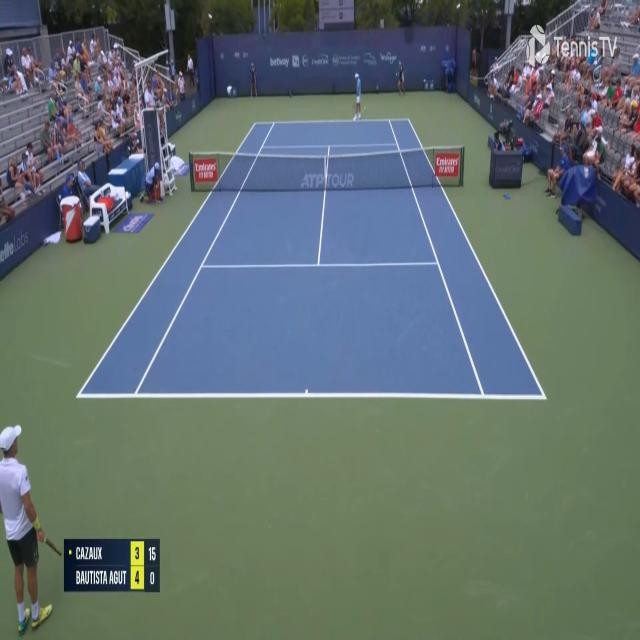tennis-player: (0, 420, 62, 638), (352, 71, 365, 123)
